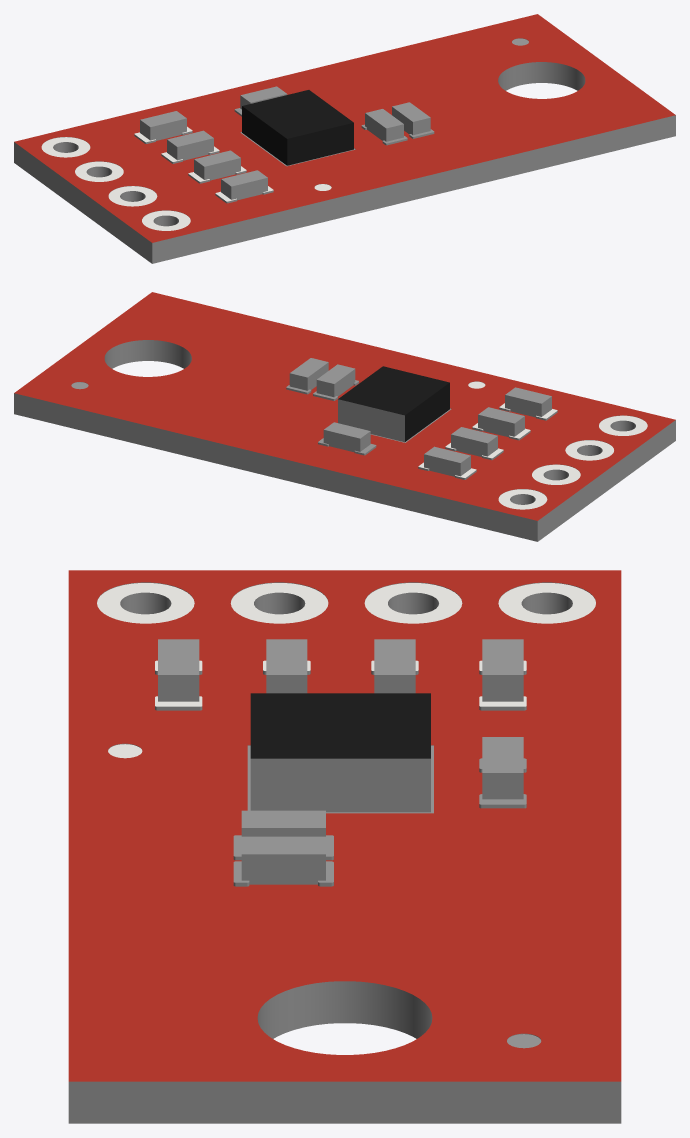
File: imu_link.dae
3 renders of one model, top to bottom at view 1: azimuth 30°, elevation 25°; view 2: azimuth 150°, elevation 25°; view 3: azimuth 270°, elevation 25°, orthographic. The views are drawn at different scales.
Visible parts, largest first — view 1: imu_link; view 2: imu_link; view 3: imu_link.
Boxes of the visible parts, bbox=[...] form: imu_link: bbox=[14, 14, 675, 263]; imu_link: bbox=[14, 292, 675, 541]; imu_link: bbox=[68, 570, 621, 1123].
Bounding box in the file's own units: 0.0235 × 0.0107 × 0.00204.
